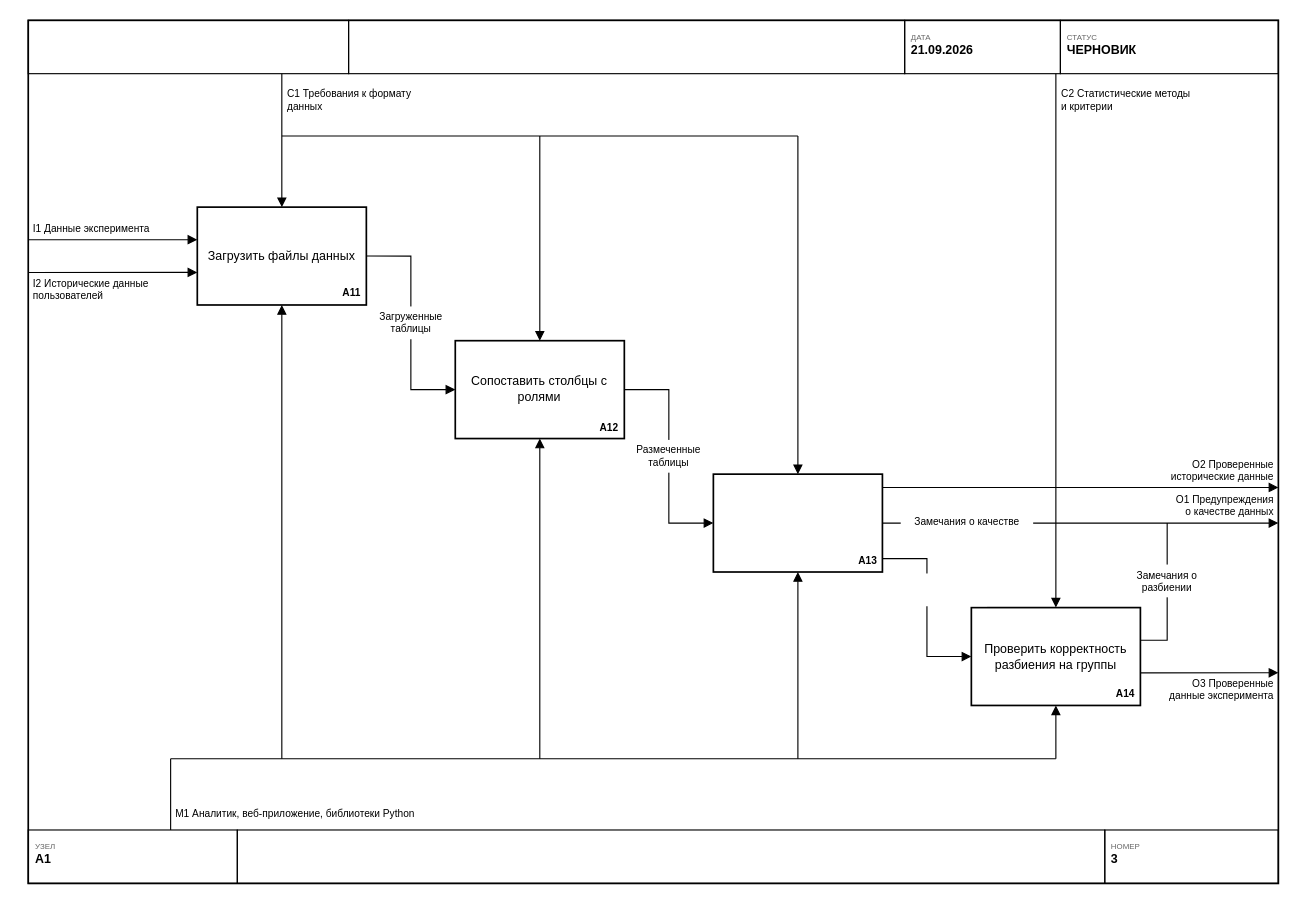
This 1307x904 diagram has some shape labels left out. Each missing label, with the box of its shape:
АВТОР _______________: (27, 19, 349, 74)
НАЗВАНИЕ Загрузить и проверить данные: (236, 829, 1105, 883)
Очищенные данные эксперимента: (866, 573, 987, 606)
Проверить качество данных: (712, 473, 883, 572)
ПРОЕКТ ВКР · Программное средство анализа A/B экспериментов: (347, 19, 905, 74)
